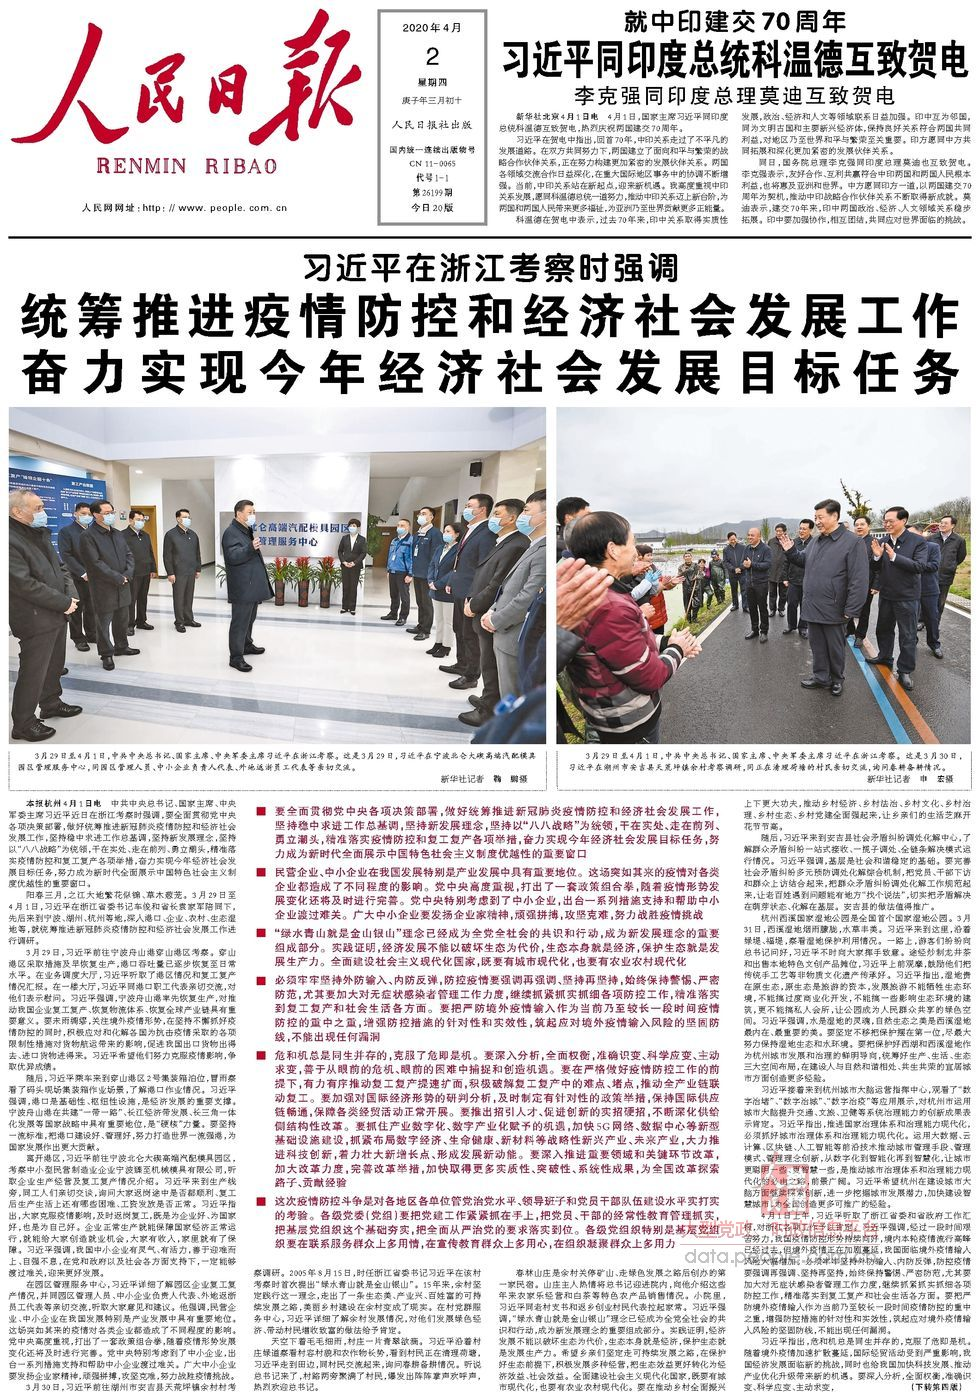pic: (6, 401, 550, 751), (552, 401, 974, 751)
